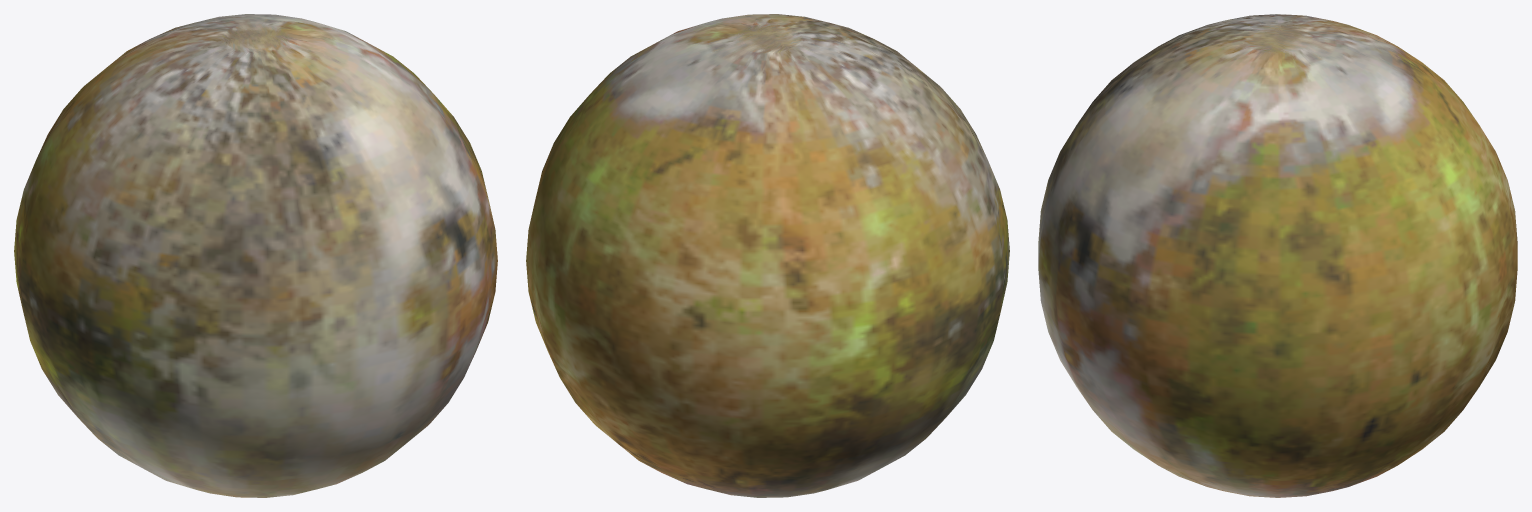
Rendered from ui_planet_sel_lok.fbx.
3 renders of one model, left to right at view 1: azimuth 30°, elevation 25°; view 2: azimuth 150°, elevation 25°; view 3: azimuth 270°, elevation 25°, orthographic.
Parts seen in each view (by area): view 1: mesh_node; view 2: mesh_node; view 3: mesh_node.
Boxes of the visible parts, x1,y1,x2,y2 form: mesh_node: (14, 14, 497, 497); mesh_node: (526, 14, 1009, 497); mesh_node: (1038, 14, 1517, 497).
Bounding box in the file's own units: 2 × 2 × 1.98.
1 material, 1 textured.
